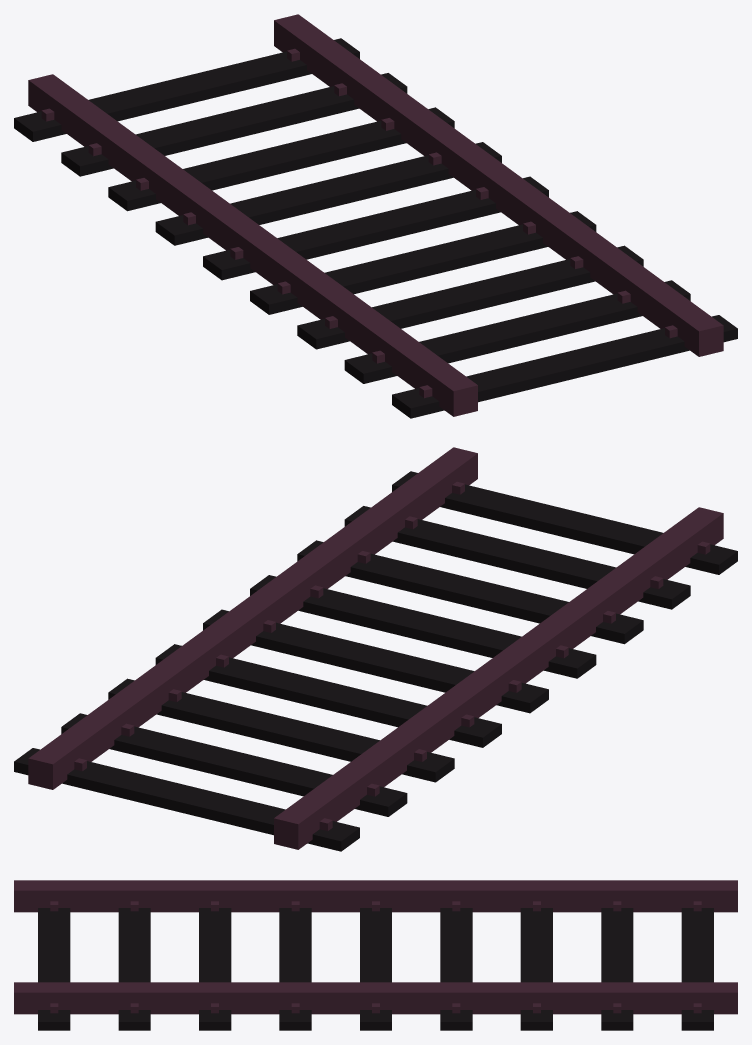
Rendered from RailTracks.fbx.
The picture shows the model from 3 angles, top to bottom: view 1: azimuth 30°, elevation 25°; view 2: azimuth 150°, elevation 25°; view 3: azimuth 270°, elevation 25°; orthographic projection. The views are drawn at different scales.
Parts seen in each view (by area): view 1: RailTracks; view 2: RailTracks; view 3: RailTracks.
Boxes of the visible parts, x1,y1,x2,y2 form: RailTracks: (14, 14, 737, 418); RailTracks: (14, 447, 737, 851); RailTracks: (14, 880, 737, 1030).
Bounding box in the file's own units: 400 × 36 × 900.
